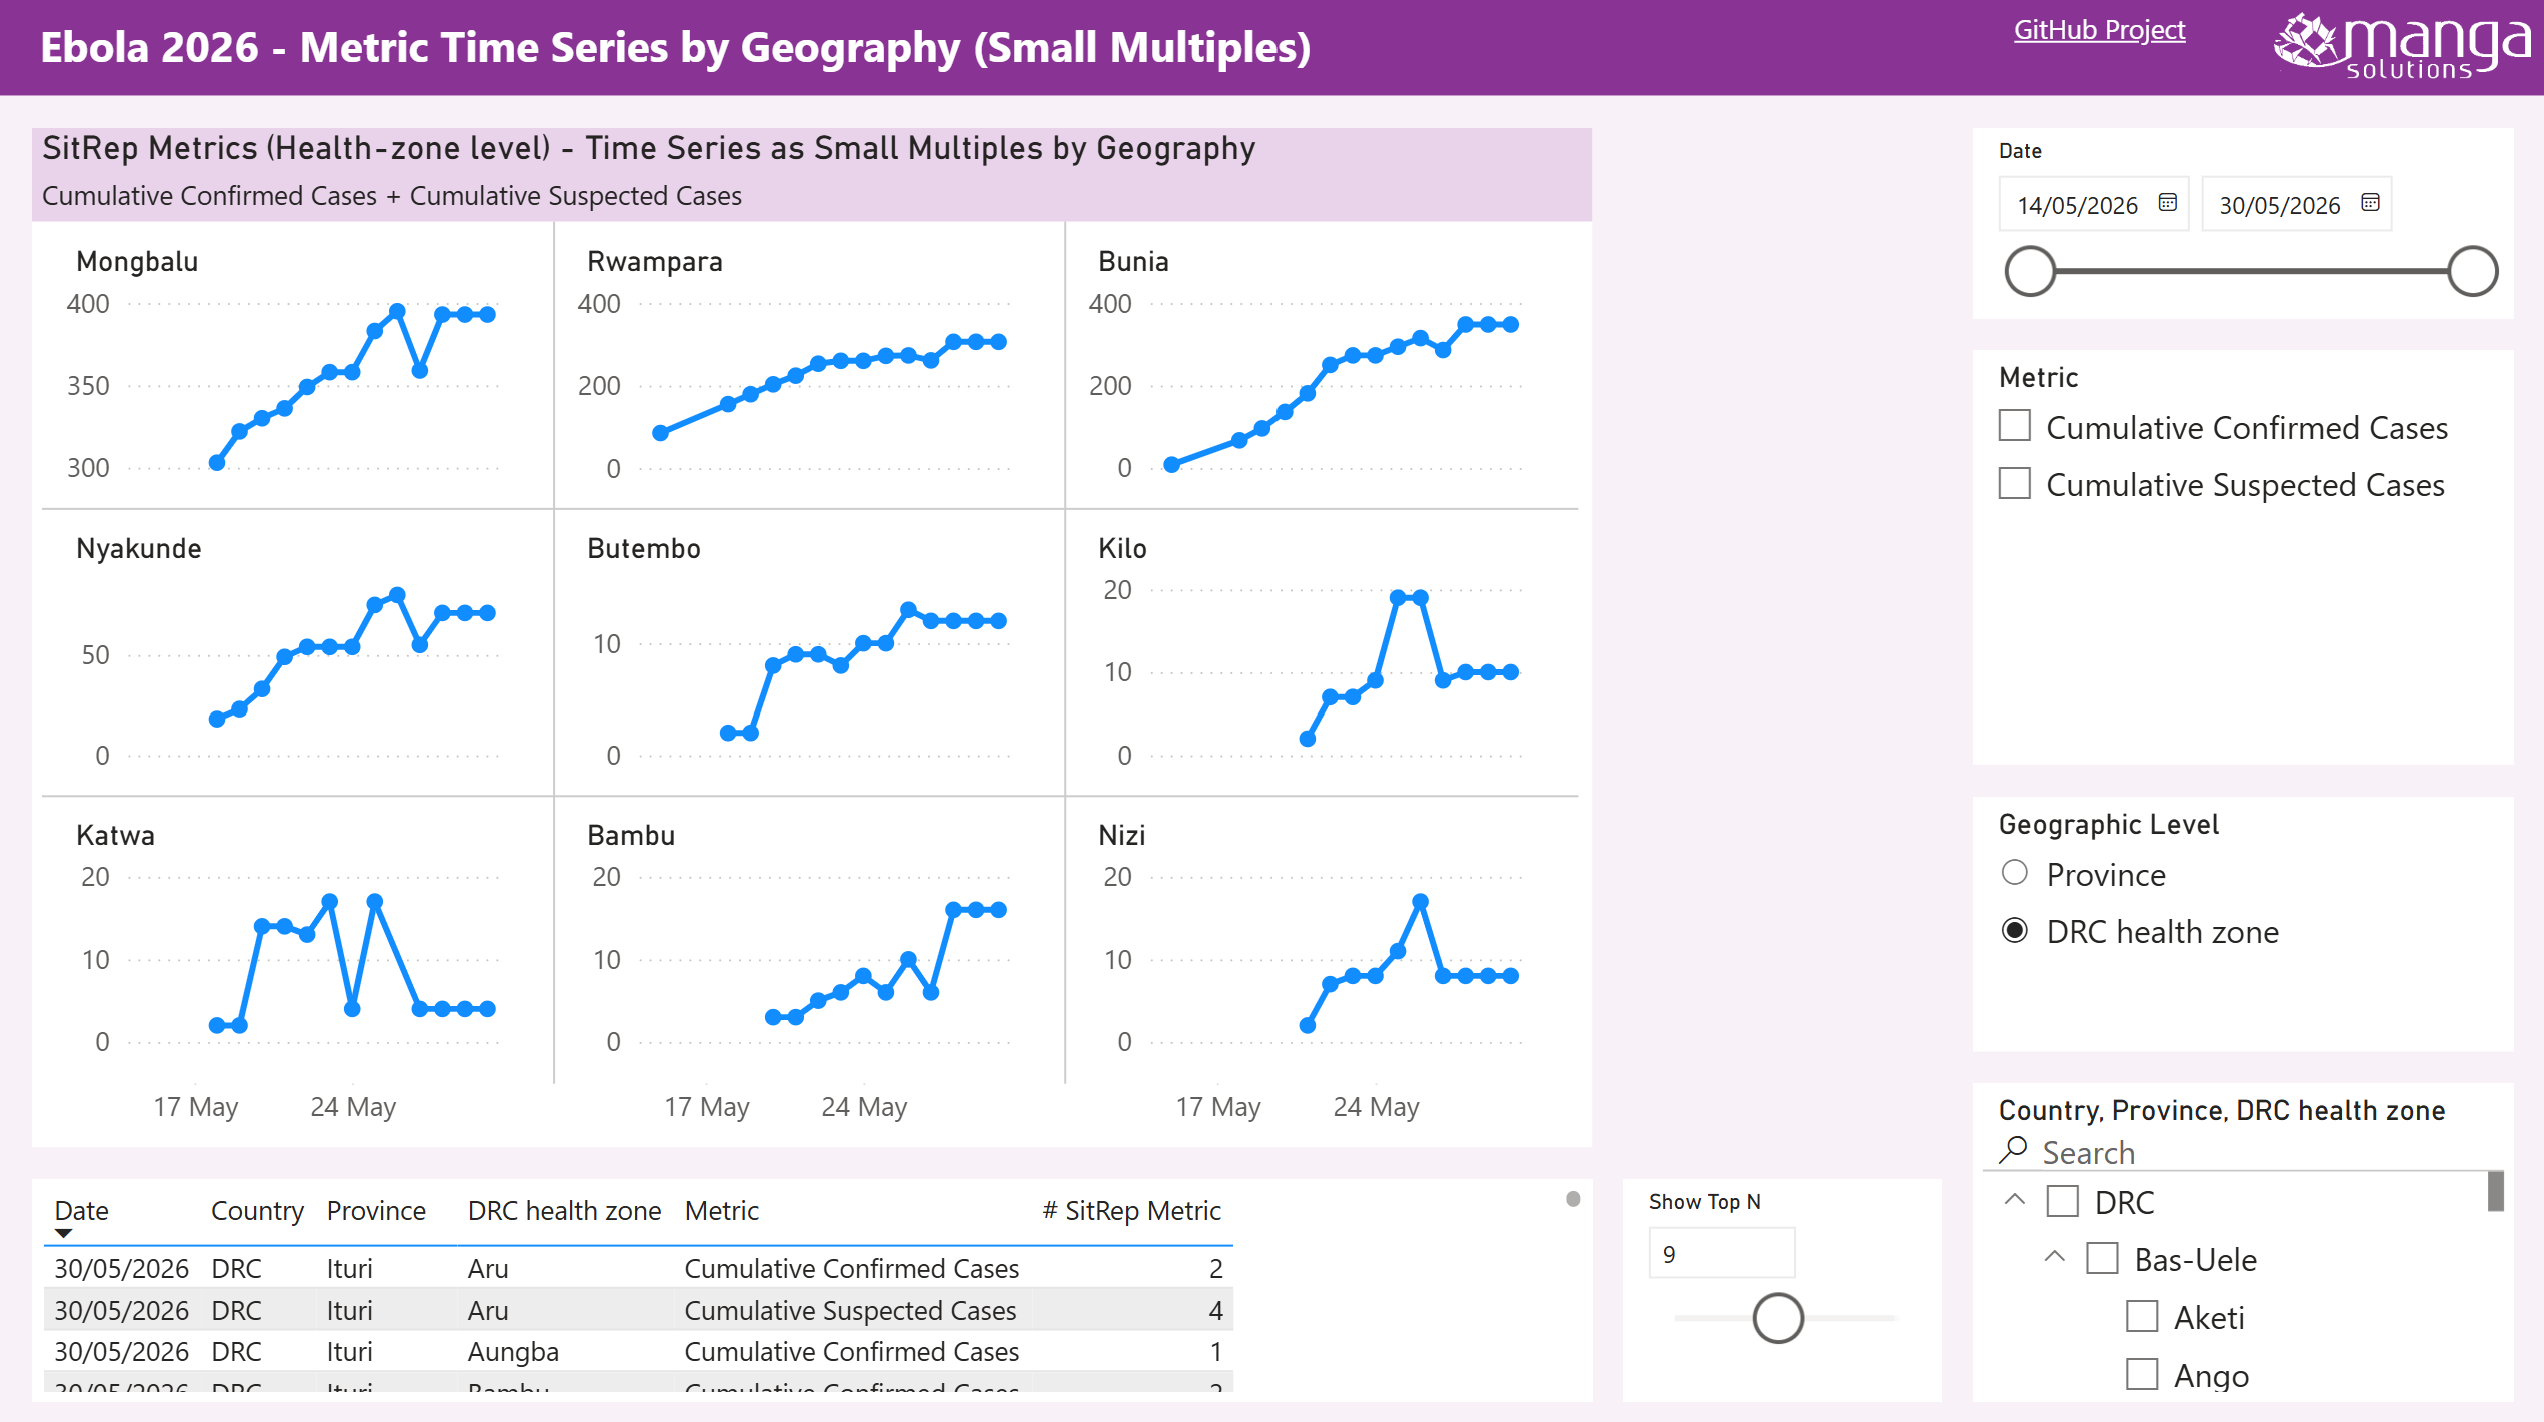

What the dashboard file says about the page in this screenshot:
{"tool":"powerbi","page":{"name":"Metric Time Series by Geography (Small Multiples)","canvas":[1280,720],"ordinal":2},"visuals":[{"type":"textbox","box":[0,0,1280,48],"z":0},{"type":"textbox","box":[992,0,112,32],"z":1000},{"type":"lineChart","title":"SitRep Metrics (Health-zone level) - Time Series as Small Multiples by Geography","fields":{"Category":["Dates.Date"],"Rows":["DRC Health Zones.DRC health zone"],"Y":["SitRep Metrics.# SitRep Metric"]},"box":[16,64,784,512],"z":2000},{"type":"slicer","fields":{"Values":["Dates.Date"]},"box":[992,64,272,96],"z":4000},{"type":"slicer","fields":{"Values":["SitRep Metrics.Metric"]},"box":[992,176,272,208],"z":5000},{"type":"tableEx","fields":{"Values":["Dates.Date","DRC Health Zones.Country","DRC Health Zones.Province","DRC_Health_zones.DRC health zone","SitRep Metrics.Metric","SitRep Metrics.# SitRep Metric"]},"box":[16,592,784,112],"z":6000},{"type":"slicer","fields":{"Values":["Parameter.Parameter"]},"box":[992,400,272,128],"z":7000},{"type":"slicer","fields":{"Values":["DRC Health Zones.Country","DRC Health Zones.Province","DRC Health Zones.DRC health zone"]},"box":[992,544,272,160],"z":8000},{"type":"slicer","fields":{"Values":["^ N.^ N"]},"box":[816,592,160,112],"z":9000},{"type":"image","box":[1136,0,144,48],"z":10000}]}

Visuals, with their boxes on the page's 1280x720 design canvas (x1, y1, x2, y2). These are canvas units, not pixel positions in the 2544x1422 screenshot, which may show the page scaled, cropped or inside an application window:
textbox: BBox(0, 0, 1280, 48)
textbox: BBox(992, 0, 1104, 32)
"SitRep Metrics (Health-zone level) - Time Series as Small Multiples by Geography" lineChart: BBox(16, 64, 800, 576)
slicer - Dates.Date: BBox(992, 64, 1264, 160)
slicer - SitRep Metrics.Metric: BBox(992, 176, 1264, 384)
tableEx - Dates.Date x DRC Health Zones.Country: BBox(16, 592, 800, 704)
slicer - Parameter.Parameter: BBox(992, 400, 1264, 528)
slicer - DRC Health Zones.Country x DRC Health Zones.Province: BBox(992, 544, 1264, 704)
slicer - ^ N.^ N: BBox(816, 592, 976, 704)
image: BBox(1136, 0, 1280, 48)
